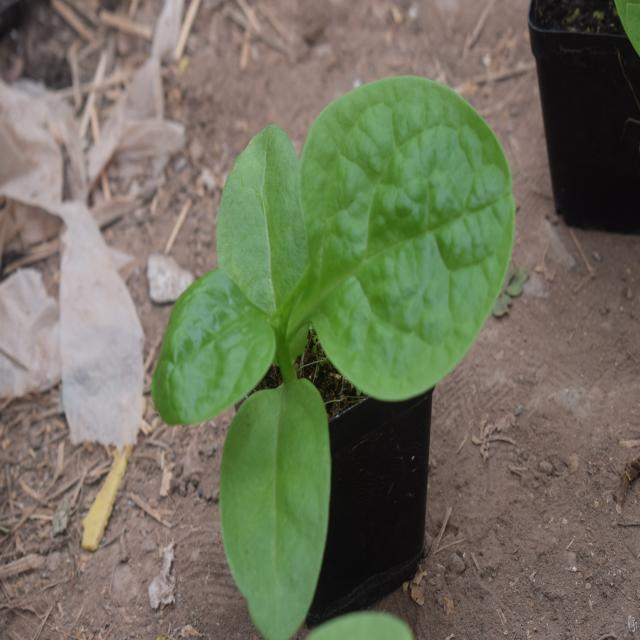Ceylon spinach: (171, 70, 527, 590)
